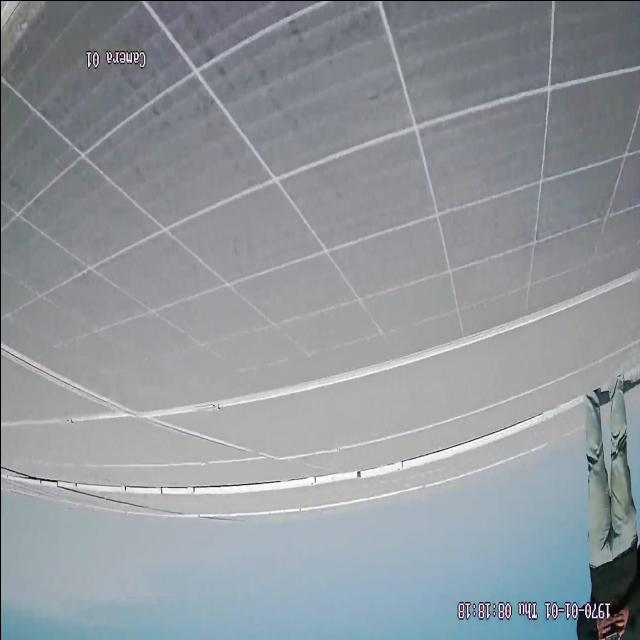interior panel: (1, 255, 640, 427)
